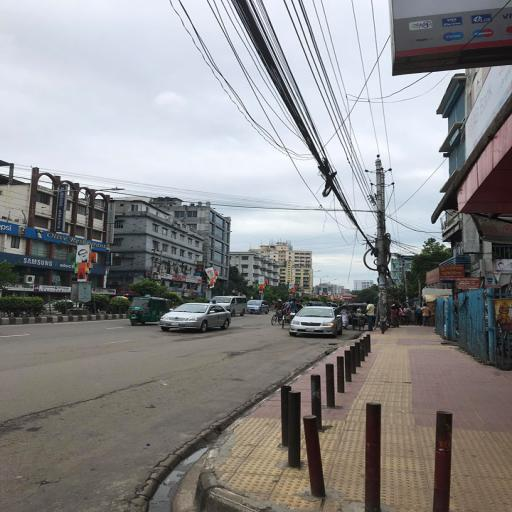car: (159, 301, 233, 337), (286, 304, 348, 339)
minivan: (208, 294, 249, 318)
rickshaw: (269, 296, 300, 328)
suv: (246, 300, 269, 316)
three wheelers (CNG): (125, 293, 172, 328)
